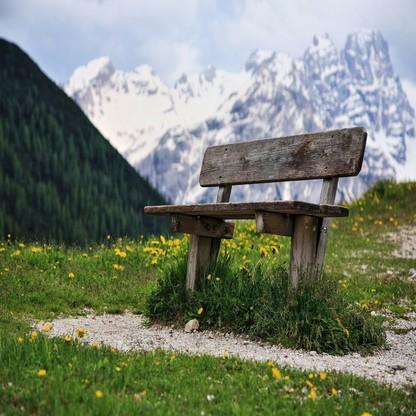obstacle: (140, 110, 373, 320)
